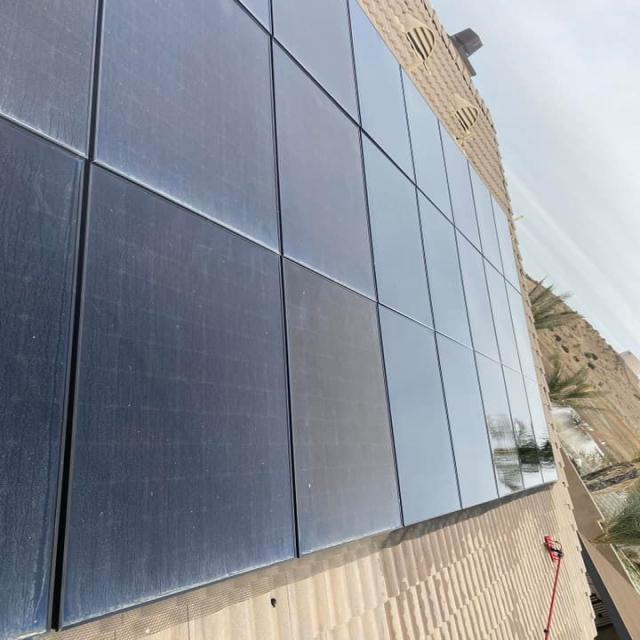dust-solar-panel: (0, 0, 466, 640)
